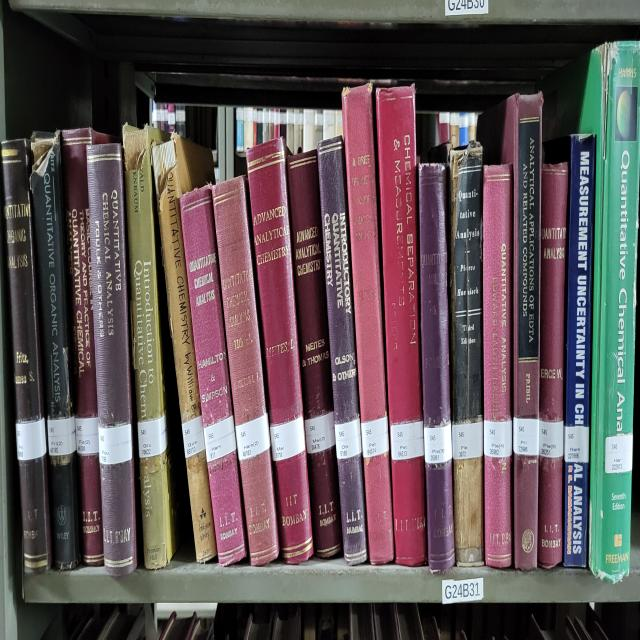Book: (480, 92, 542, 568), (151, 133, 218, 563), (248, 138, 314, 563), (212, 176, 279, 565), (180, 184, 246, 565), (342, 84, 394, 565), (122, 124, 176, 568), (376, 87, 426, 565), (0, 138, 51, 574), (30, 130, 80, 568), (86, 143, 136, 576), (318, 135, 368, 565), (62, 127, 110, 565), (418, 162, 455, 574), (449, 141, 484, 565), (538, 162, 569, 568), (482, 165, 512, 568), (288, 152, 332, 419)
Label: (235, 414, 270, 460), (270, 417, 305, 460), (204, 417, 236, 463), (99, 425, 132, 465), (305, 411, 335, 455), (390, 422, 424, 460), (16, 417, 46, 460), (138, 414, 166, 457), (424, 422, 452, 463), (452, 422, 482, 460), (48, 417, 76, 457), (361, 417, 389, 457), (335, 417, 361, 460), (512, 417, 539, 457), (605, 433, 632, 473), (484, 419, 512, 457), (182, 414, 205, 457), (539, 419, 564, 457), (564, 425, 589, 463), (75, 417, 99, 455)
